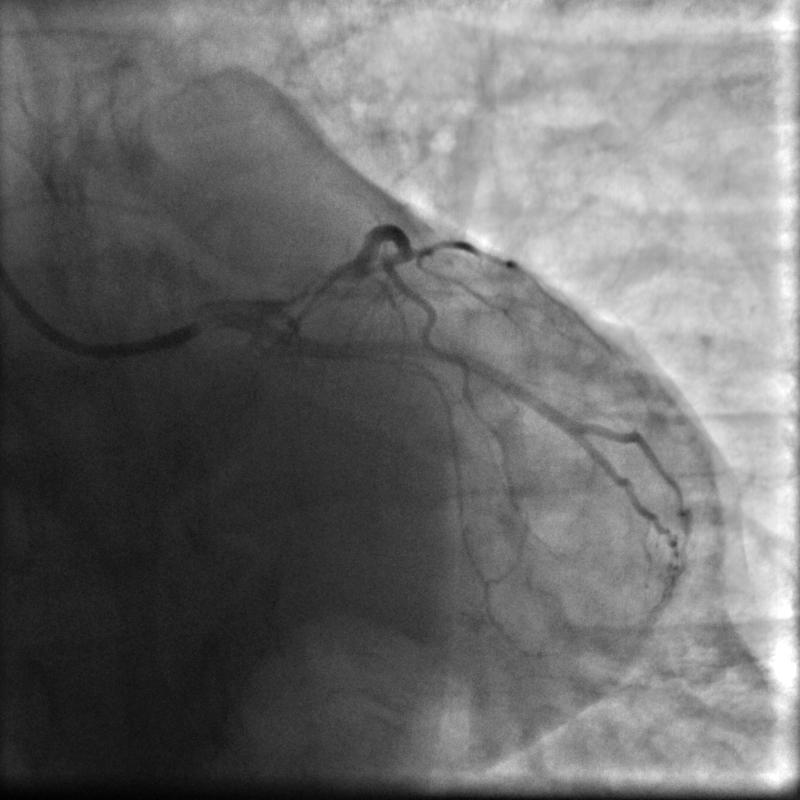Stenosis: (275, 266, 348, 310)
